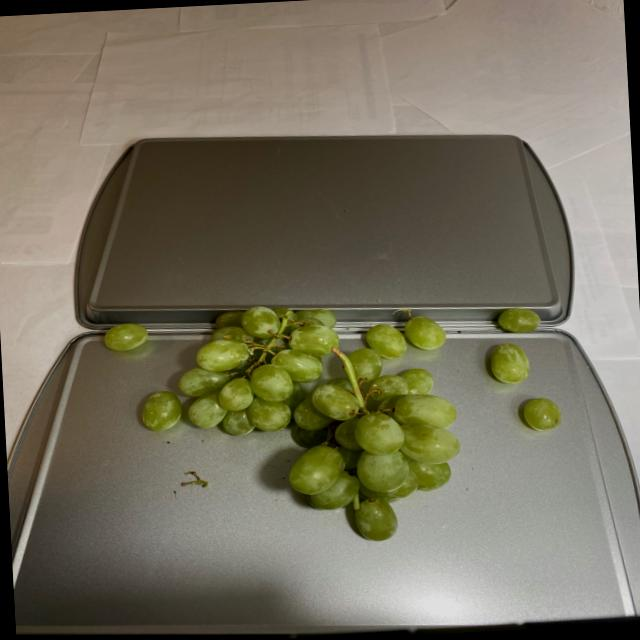grapes: (93, 288, 570, 556)
